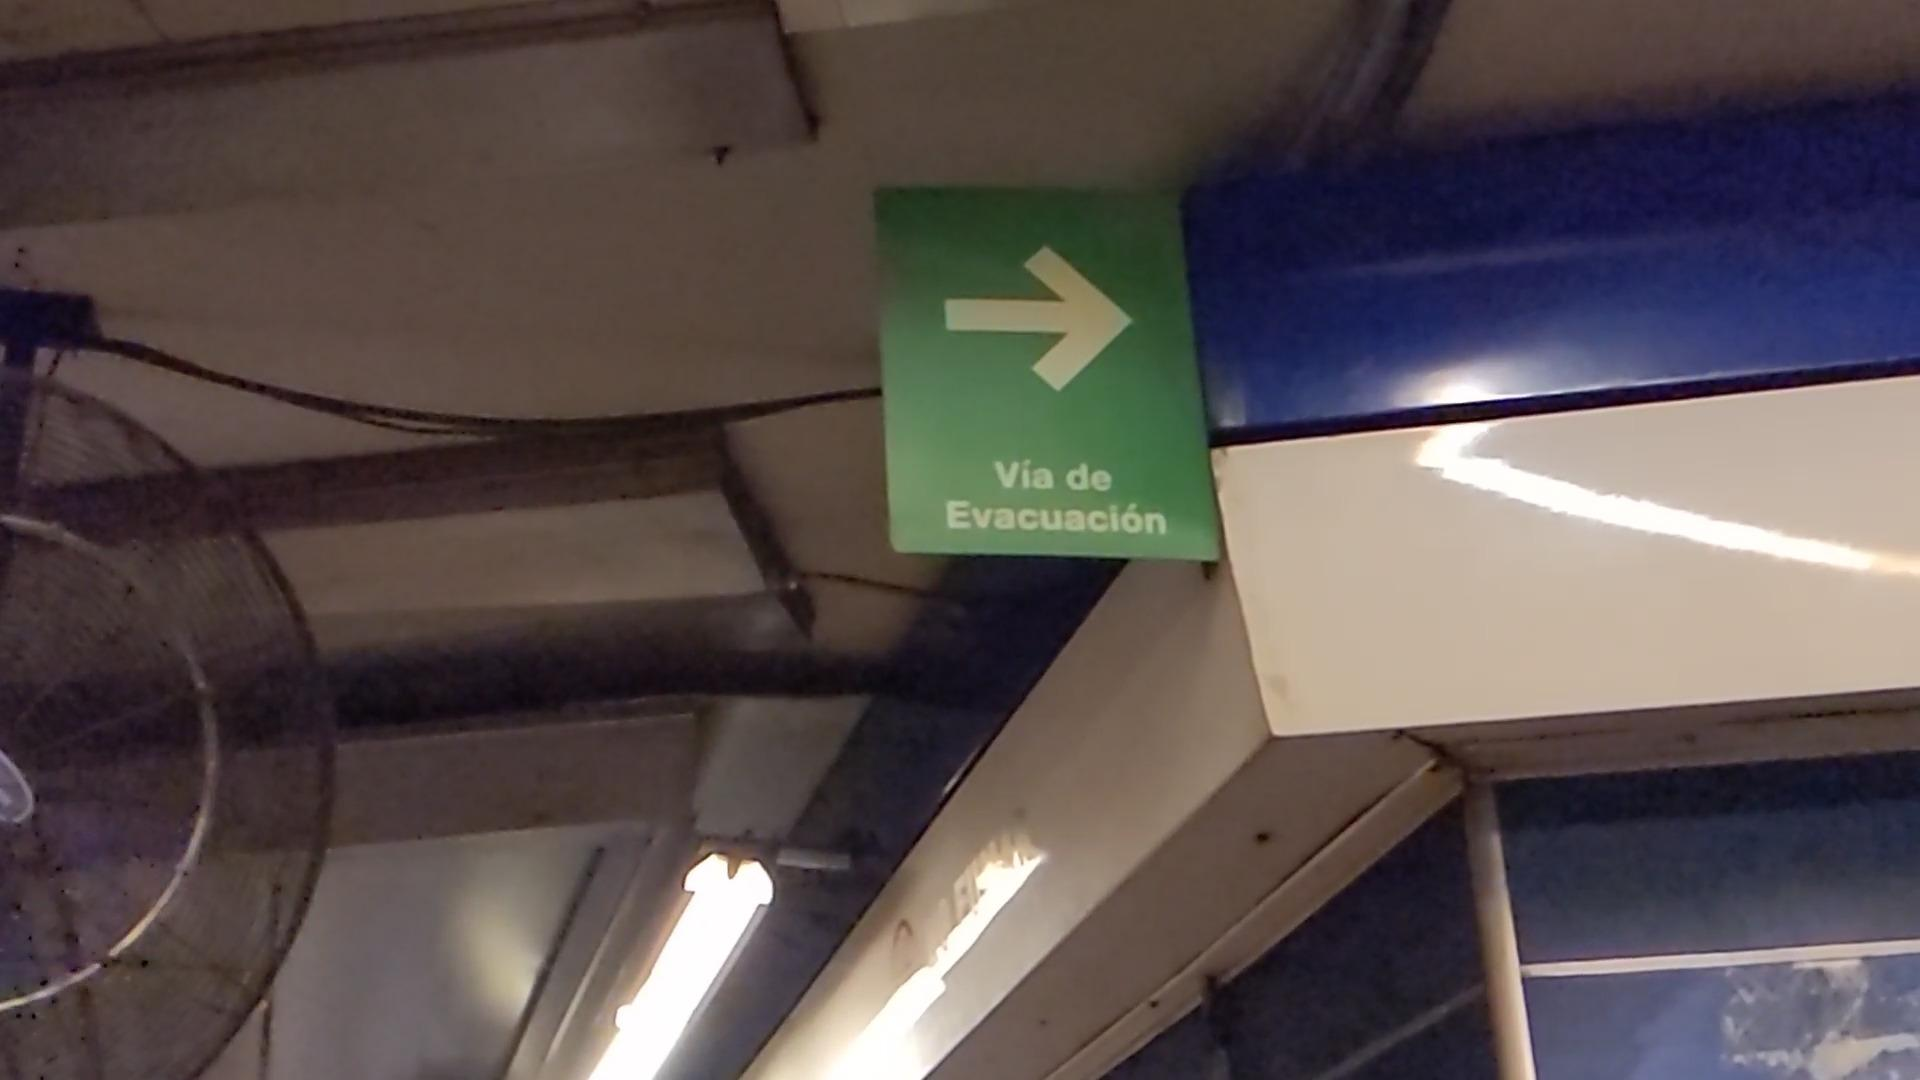emergency right arrow: (935, 240, 1141, 396)
